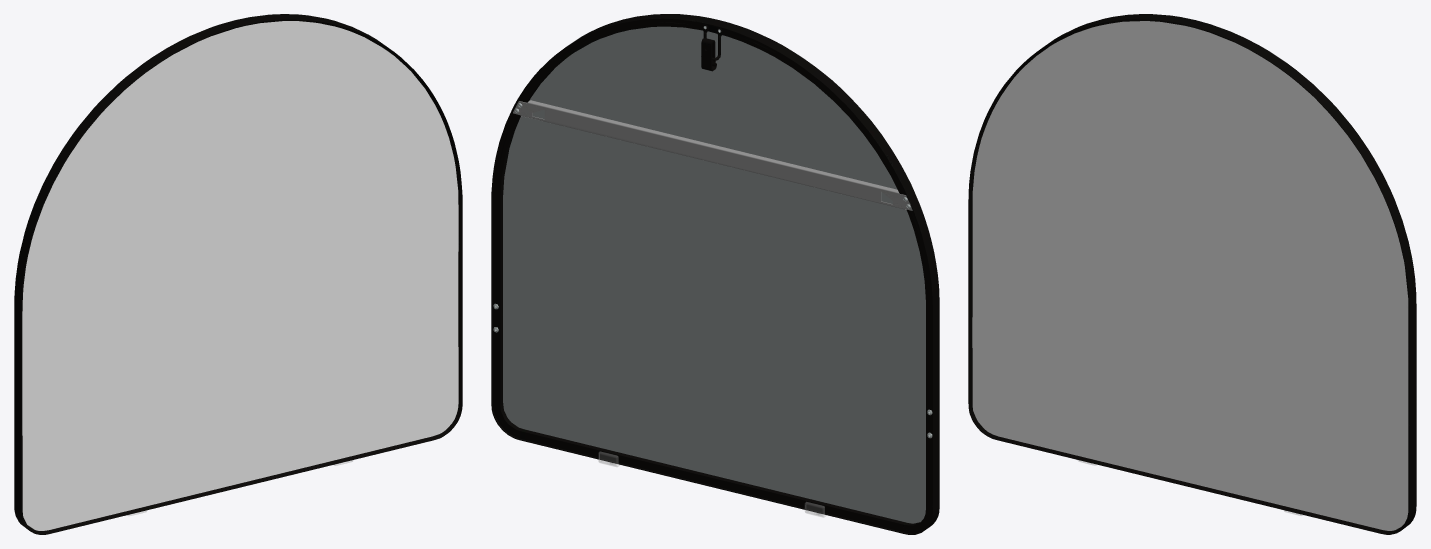
File: lindbyn_lustro_30632332.glb
3 renders of one model, left to right at view 1: azimuth 30°, elevation 25°; view 2: azimuth 150°, elevation 25°; view 3: azimuth 330°, elevation 25°, orthographic.
Visible parts, largest first — view 1: lindbyn_lustro_30632332; view 2: lindbyn_lustro_30632332; view 3: lindbyn_lustro_30632332.
Part boxes in pixels (x1,y1,x2,y2): lindbyn_lustro_30632332: [14, 14, 462, 534]; lindbyn_lustro_30632332: [491, 14, 939, 534]; lindbyn_lustro_30632332: [968, 14, 1416, 534].
Size of the model in its own units: 0.8 by 0.8054 by 0.0386.
Materials: 2 (2 with a texture image).
